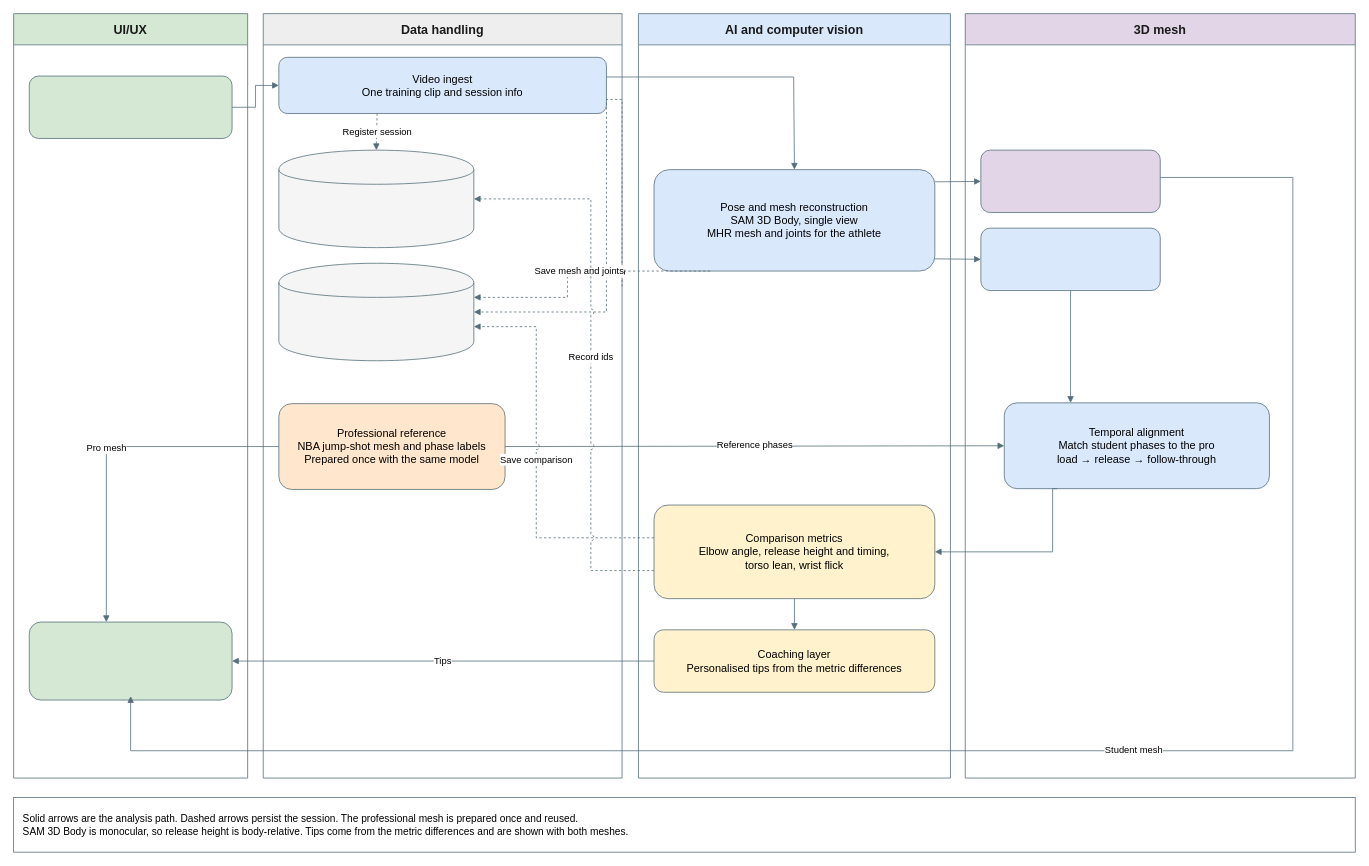
This 1369x866 diagram has some shape labels left out. The shapes that lost their labels are listed below. From the top down, each one's centre as x and y in pixels, then its label:
At (130,106): "Training clip Upload or record".
At (376,198): "User and session database Users, sessions, artifact ids".
At (1070,181): "Student body mesh For the side-by-side view".
At (1070,259): "Student joint trajectories One coordinate convention".
At (376,311): "Artifact files Clip, meshes, joints, alignment, metrics, tips".
At (130,660): "App UI Side-by-side student and pro meshes, plus the tip summary".
